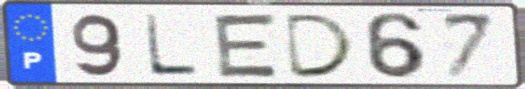6: (362, 11, 431, 81)
7: (441, 10, 497, 82)
9: (68, 11, 126, 79)
D: (283, 11, 359, 80)
E: (212, 11, 284, 80)
L: (141, 12, 203, 79)
